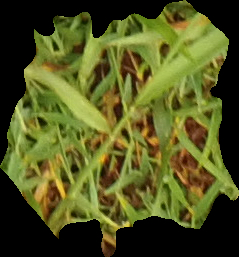grass: (1, 1, 238, 255)
